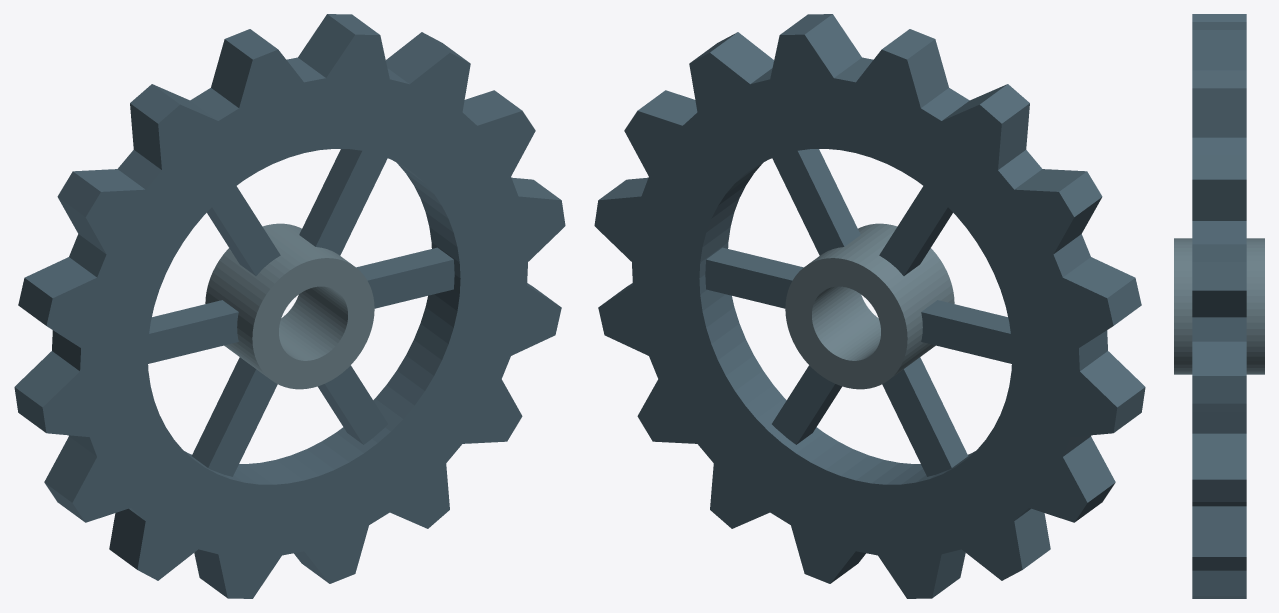
File: 11_Gear_16T_Spoked.obj
The picture shows the model from 3 angles, left to right: view 1: azimuth 30°, elevation 25°; view 2: azimuth 150°, elevation 25°; view 3: azimuth 270°, elevation 25°; orthographic projection. The views are drawn at different scales.
Bounding box in the file's own units: 1.28 × 1.28 × 0.2.
